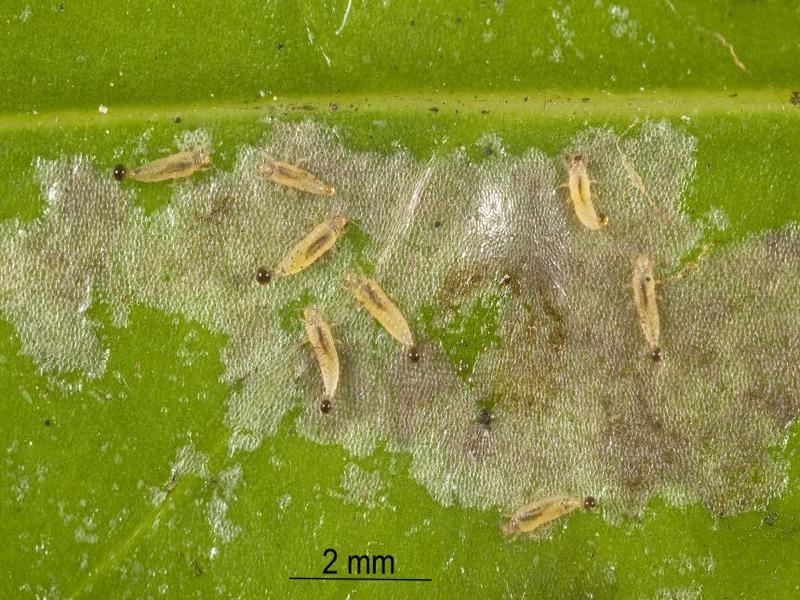Thrips: (536, 141, 689, 367), (244, 235, 436, 384), (116, 140, 337, 226)
